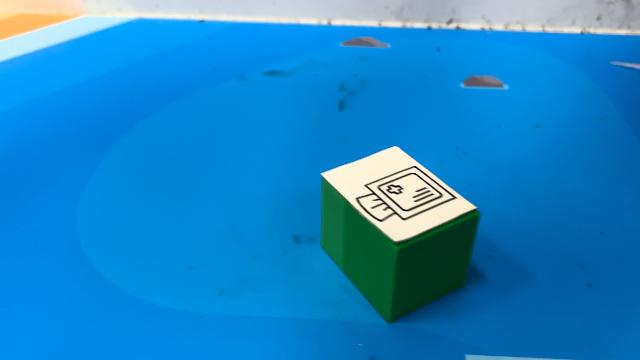napkin: (318, 143, 482, 323)
